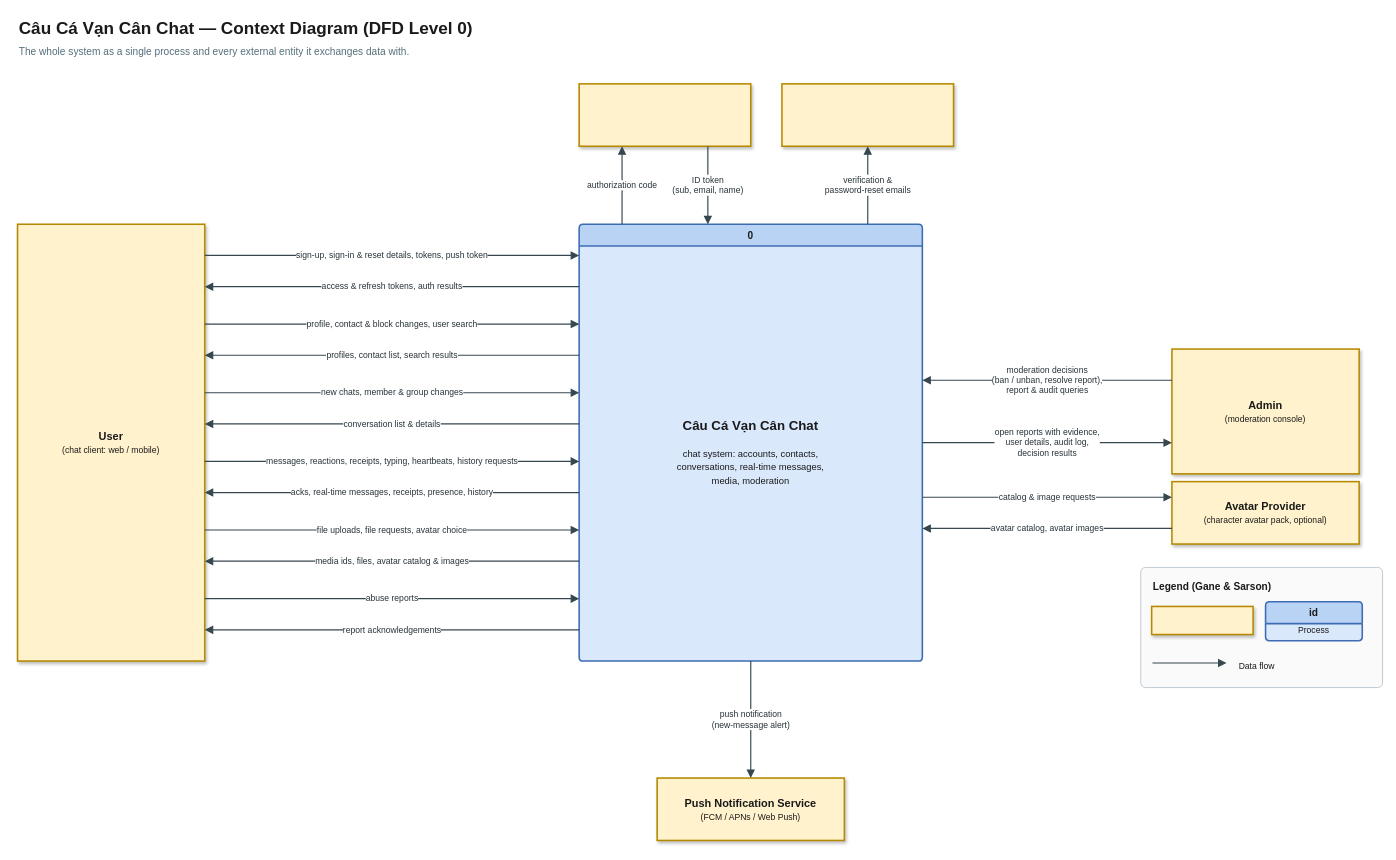
Image size: 1396x860. Some labels were removed from this diagram. The shapes that lost their labels are listed below. From the top down, each one's centre as x and y in pixels, then its label:
At (x=665, y=116): "Google Identity (OAuth 2.0 / OpenID Connect)".
At (x=868, y=116): "Email Service (SMTP provider)".
At (x=1202, y=621): "External entity".
